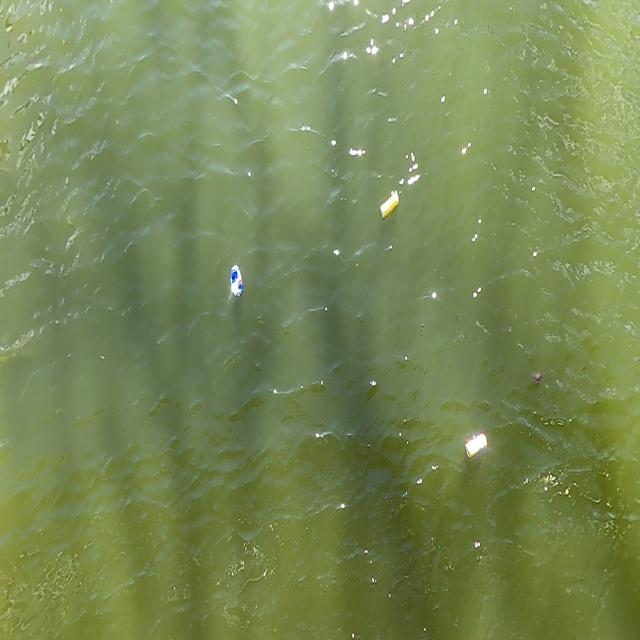Non plastique: (376, 183, 406, 231), (459, 425, 489, 461), (224, 261, 248, 300)
